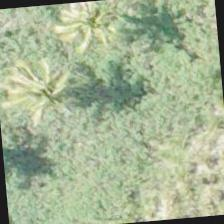Kelapa_Sawit: (0, 44, 92, 142), (47, 0, 143, 70)
